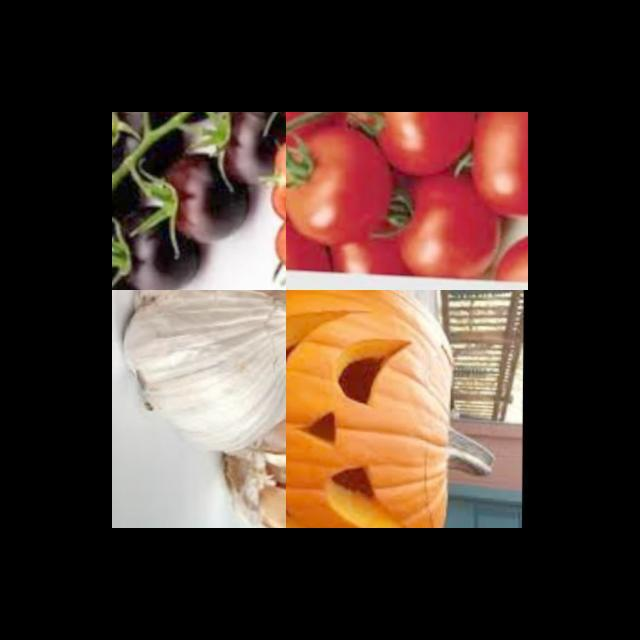garlic: (118, 290, 286, 469), (214, 369, 286, 528)
tomato: (383, 161, 499, 287), (286, 119, 386, 244), (149, 147, 243, 245), (112, 208, 209, 290), (193, 112, 285, 196), (464, 112, 528, 222), (365, 112, 471, 176), (328, 213, 408, 290), (112, 112, 168, 185), (286, 211, 333, 281), (259, 129, 286, 218), (489, 225, 528, 284)
